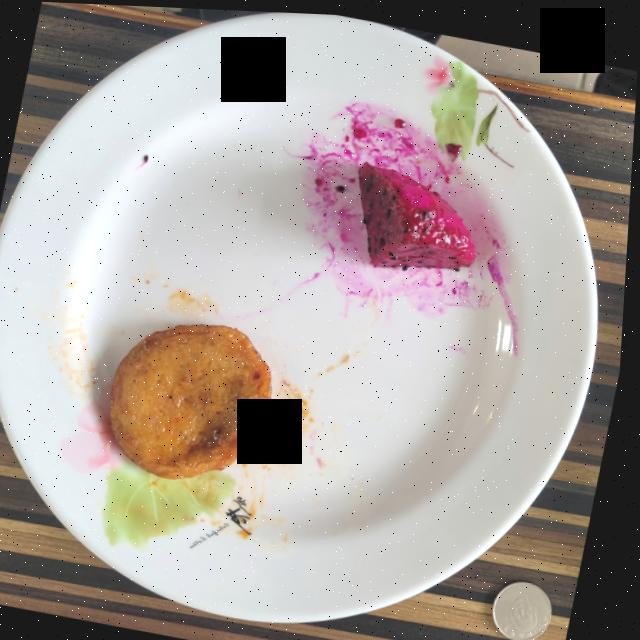coin: (500, 575, 559, 635)
fish cake: (116, 321, 278, 476)
